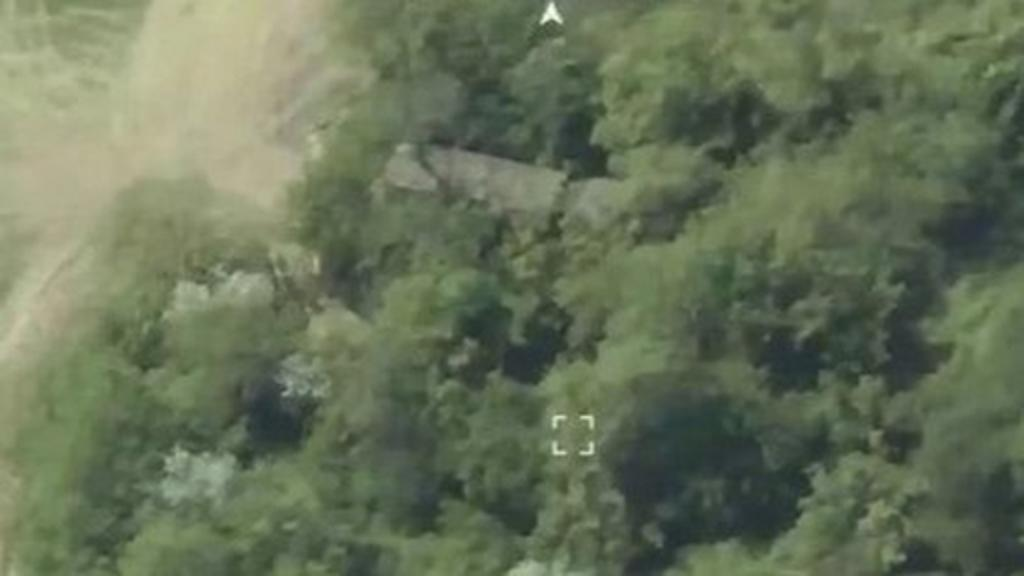TRUCK: (376, 130, 660, 278)
